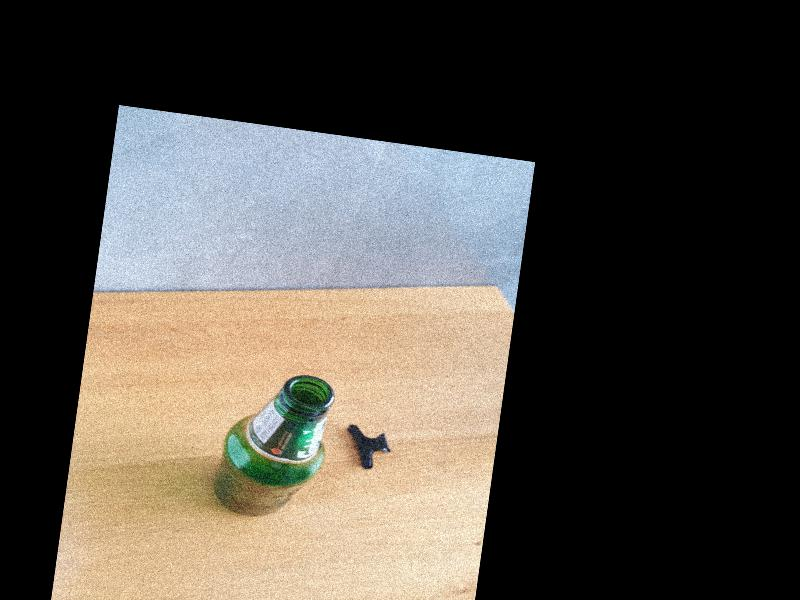Beer: (209, 364, 337, 526)
